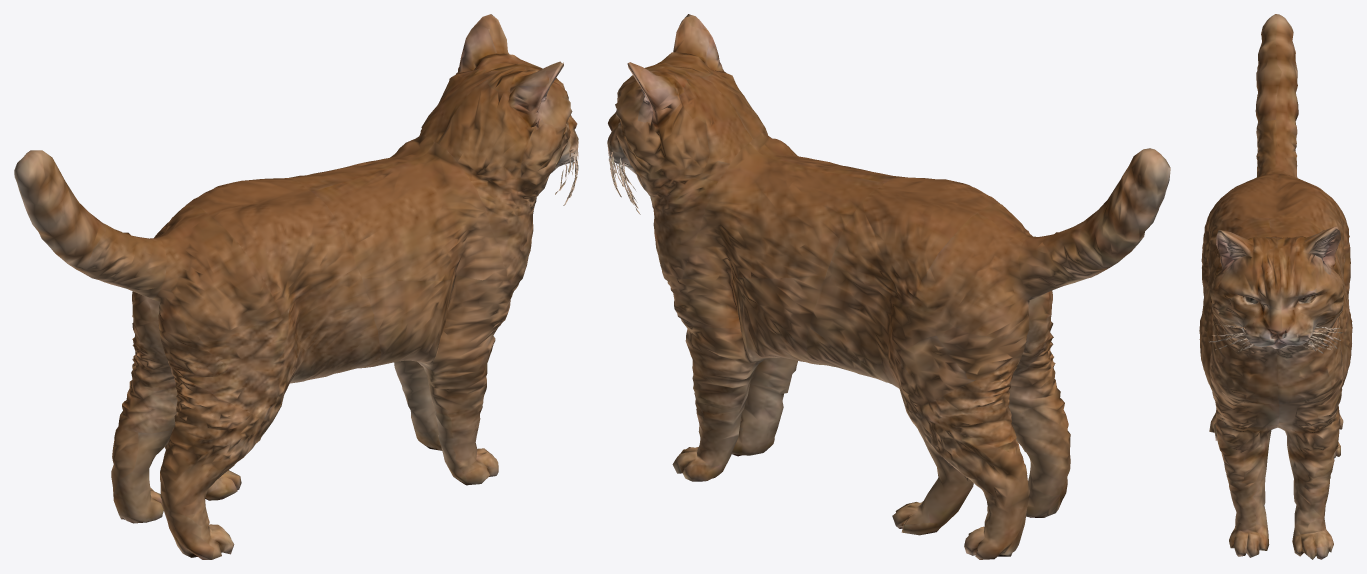
Rendered from ULYSSESCAT-lo.glb.
The picture shows the model from 3 angles, left to right: view 1: azimuth 30°, elevation 25°; view 2: azimuth 150°, elevation 25°; view 3: azimuth 270°, elevation 25°; orthographic projection. The views are drawn at different scales.
Visible parts, largest first — view 1: tripo_node_65c48883-fdd2-4f25-88ed-4498f503c4fd; view 2: tripo_node_65c48883-fdd2-4f25-88ed-4498f503c4fd; view 3: tripo_node_65c48883-fdd2-4f25-88ed-4498f503c4fd.
Boxes of the visible parts, <box> form: tripo_node_65c48883-fdd2-4f25-88ed-4498f503c4fd: <box>14,14,578,559</box>; tripo_node_65c48883-fdd2-4f25-88ed-4498f503c4fd: <box>607,14,1170,559</box>; tripo_node_65c48883-fdd2-4f25-88ed-4498f503c4fd: <box>1199,14,1352,559</box>.
Bounding box in the file's own units: 1.4 × 0.9966 × 0.3858.
Materials: 1 (1 with a texture image).
